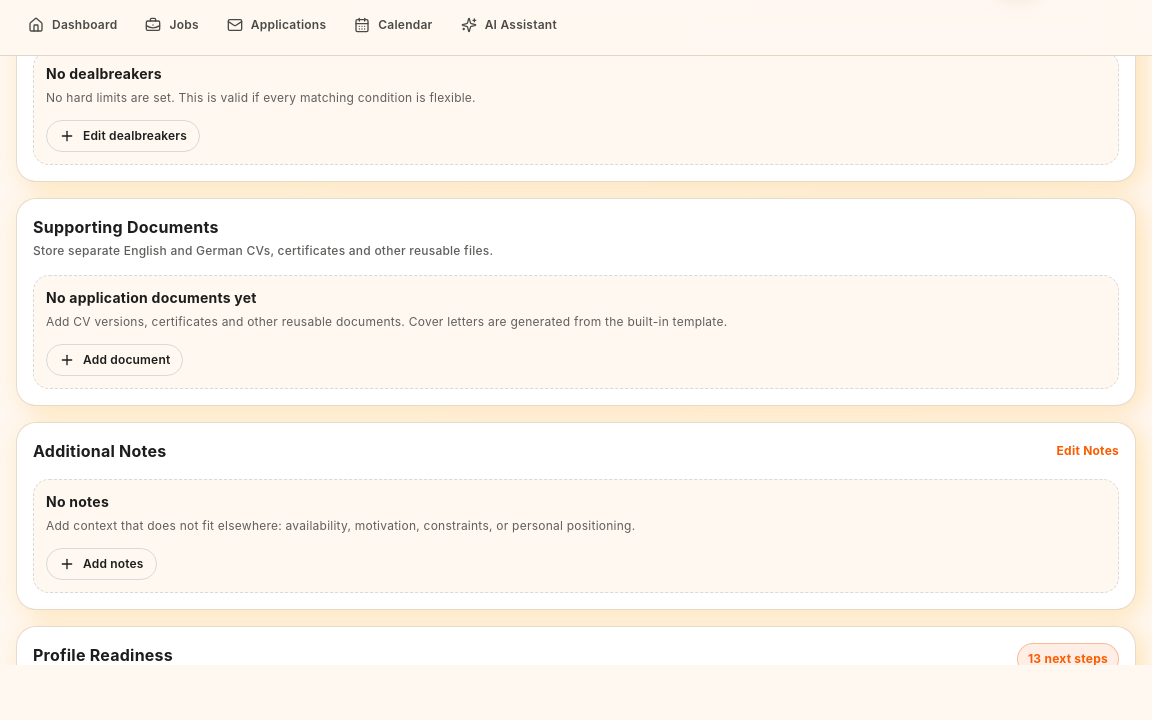
offers CV / Resume as a supporting document type
This screenshot has width=1152, height=720.
(page scrolled)
Click the button "Add document" at point(115, 360), box [46,344,183,376]
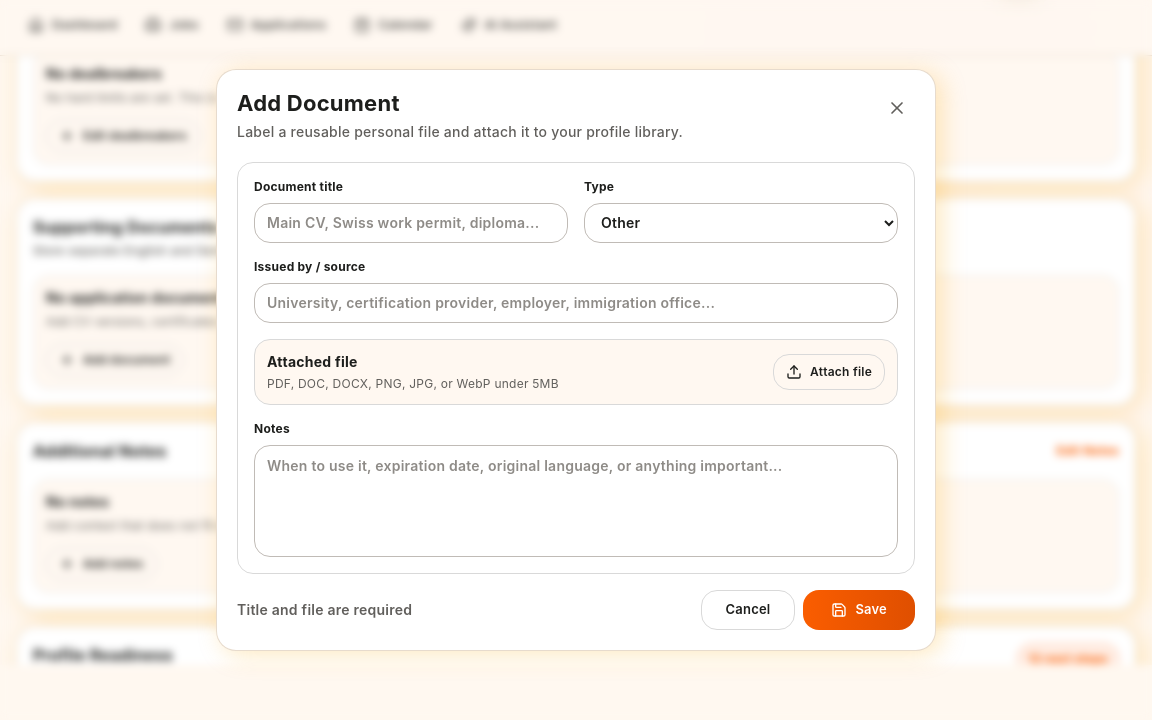
Select "CV / Resume" in the dropdown labelled "Type" at point(741, 223), box [584,203,898,243]
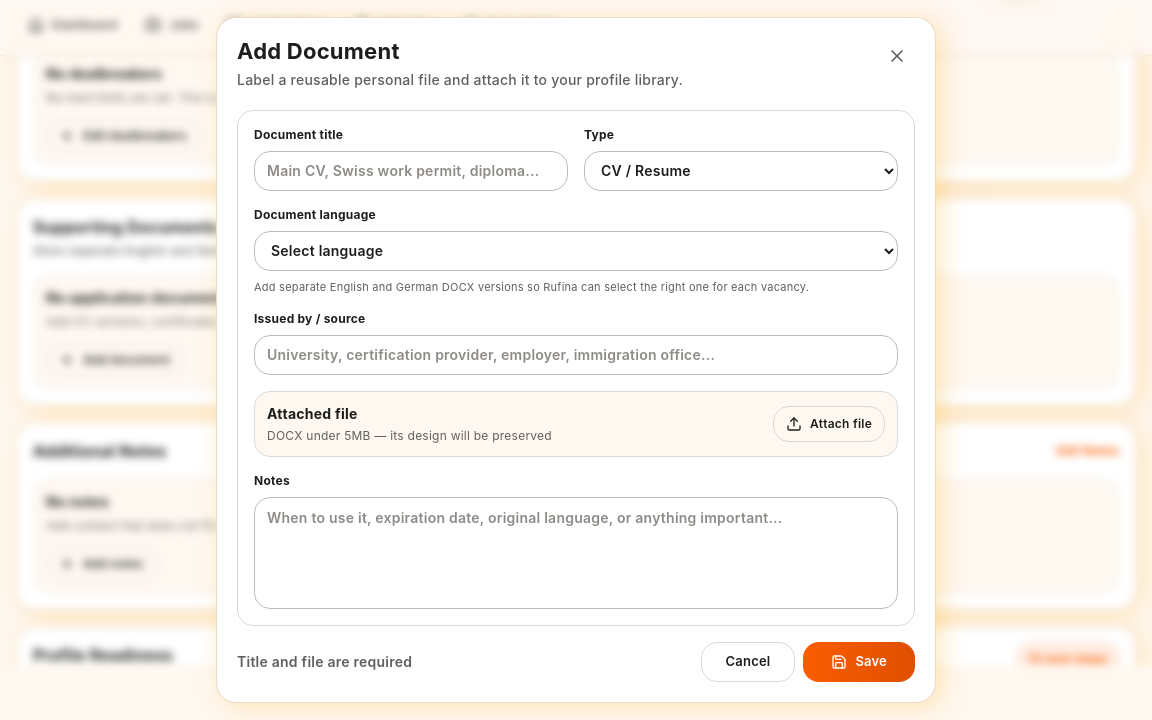
expect the text "Document language" is shown: met, box [254,207,376,222]
expect the 2nd dropdown is shown: met, box [254,231,898,271]
expect the text "DOCX under 5MB — its design will be preserved" is shown: met, box [267,428,552,444]
